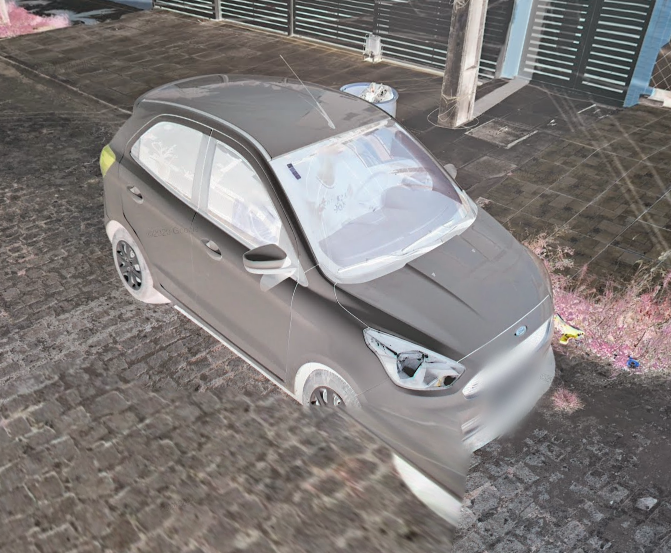car: (95, 53, 561, 467)
